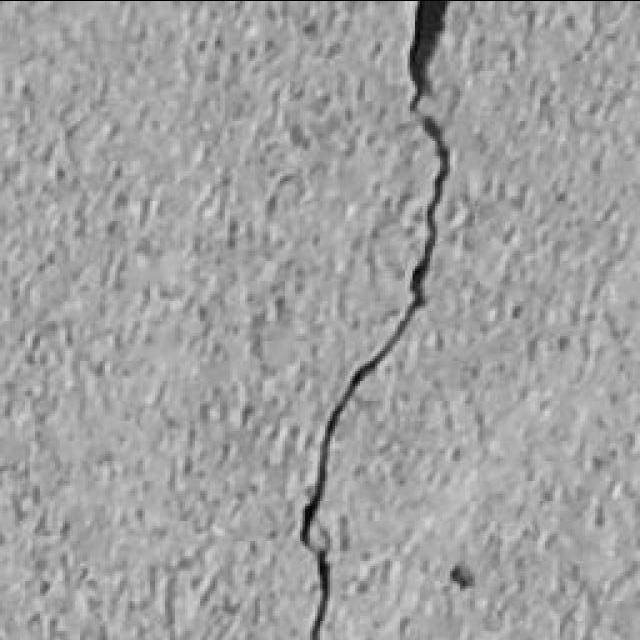corrosion: (297, 1, 454, 637)
vegetation: (1, 0, 638, 638)
